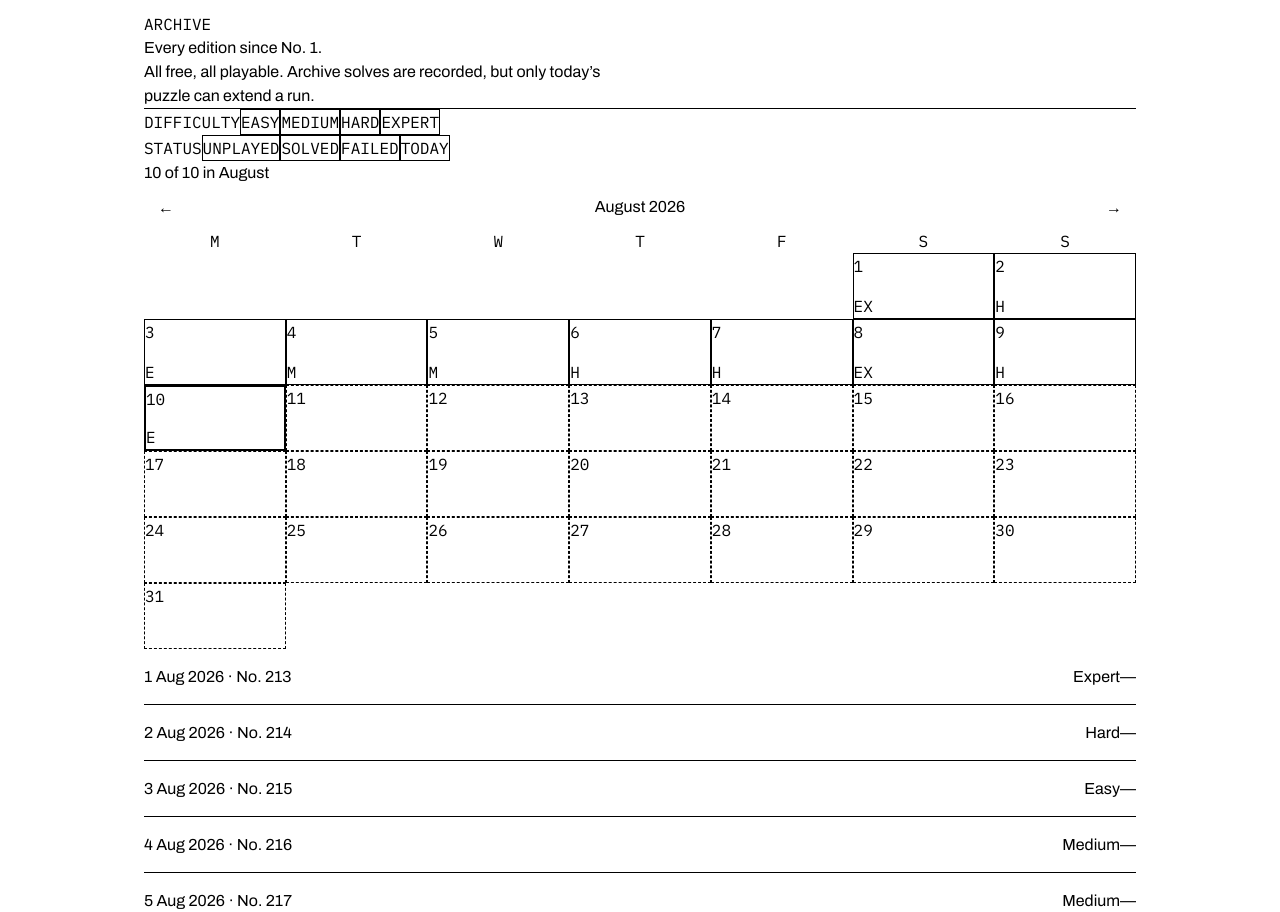
it: ArchiveScreen › walks back in time with the left arrow
Click the button "←": (166, 207) x1=144 y1=185 x2=188 y2=229
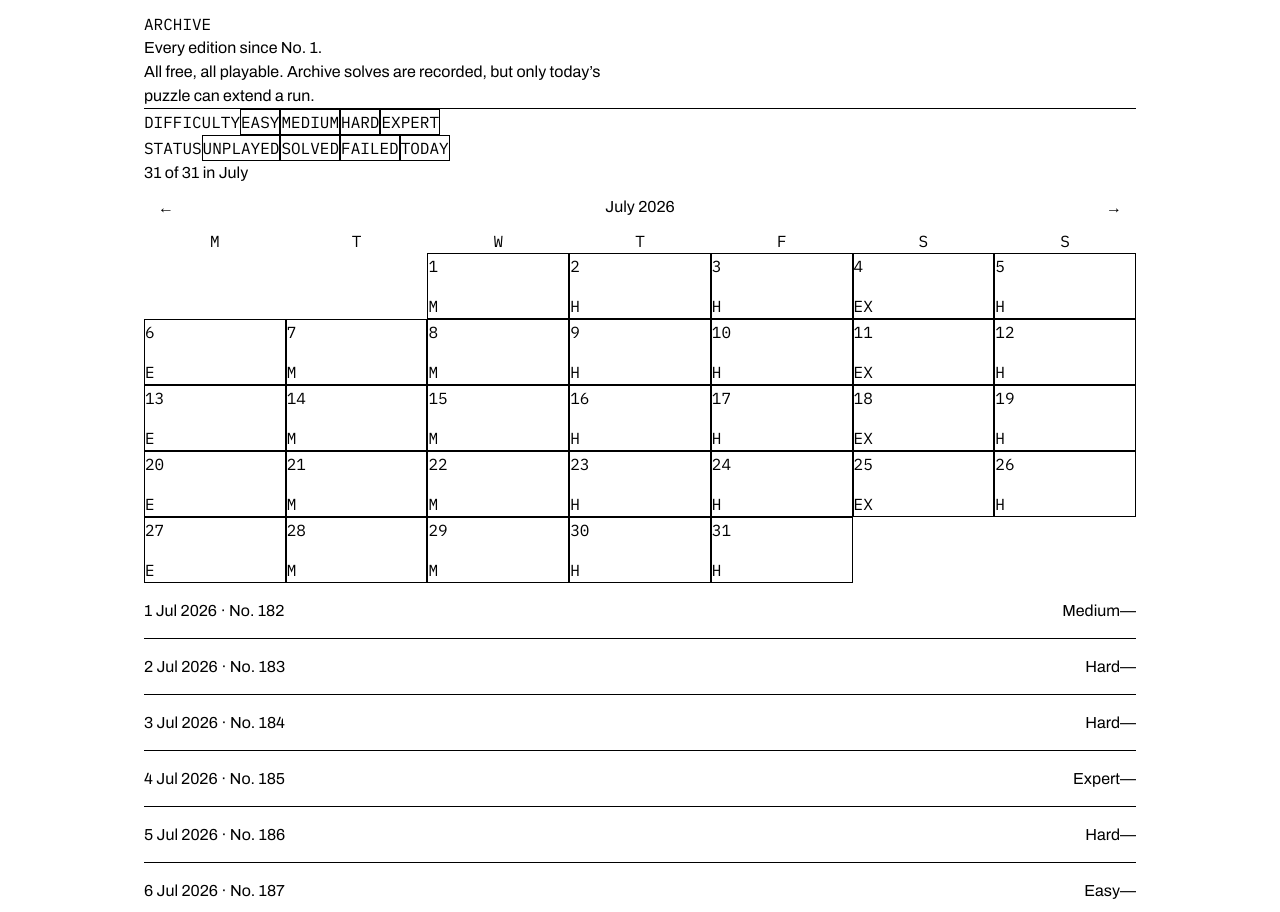
expect the text "July 2026" is shown: met, box x1=605 y1=195 x2=675 y2=219
expect the text "31 of 31 in July" is shown: met, box x1=144 y1=161 x2=248 y2=185
